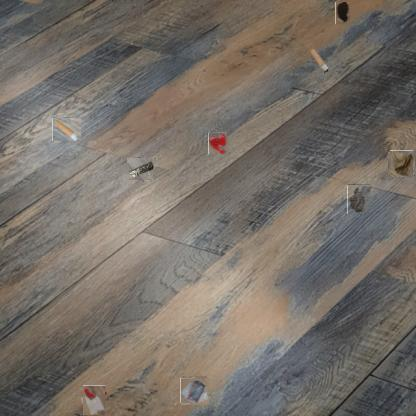dirty: (181, 377, 208, 404), (81, 388, 108, 414), (52, 117, 81, 141), (347, 184, 370, 214), (128, 156, 154, 182), (389, 151, 414, 177), (307, 47, 331, 73)
liquid: (208, 132, 227, 154), (335, 3, 350, 24)
